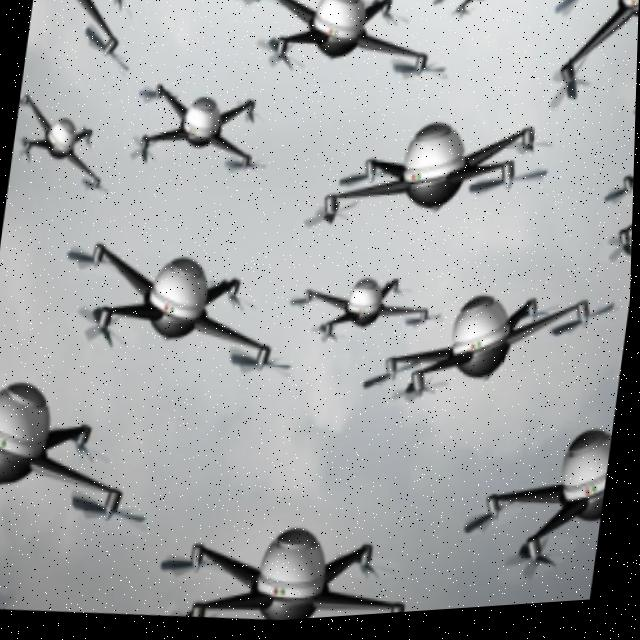drones: (0, 0, 328, 379), (297, 0, 640, 277), (155, 453, 439, 631), (319, 246, 577, 440), (463, 368, 623, 612), (0, 357, 164, 543)
